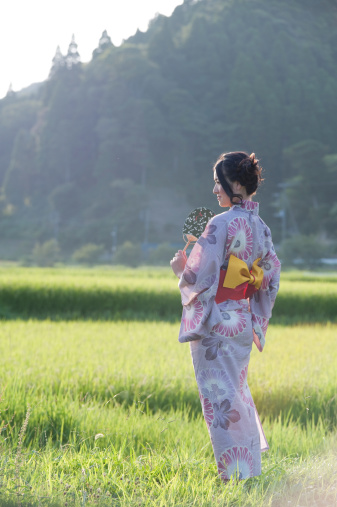em pe: (155, 153, 288, 496)
